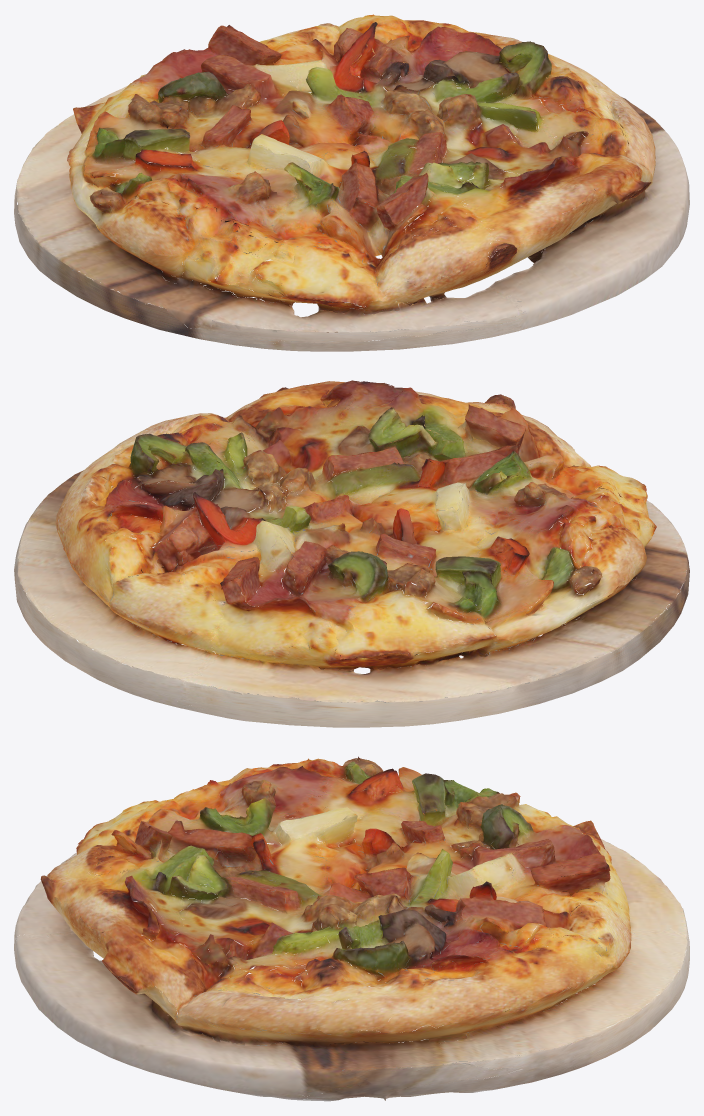
The model's file is pizza-del-giorno.glb.
The picture shows the model from 3 angles, top to bottom: view 1: azimuth 30°, elevation 25°; view 2: azimuth 150°, elevation 25°; view 3: azimuth 270°, elevation 25°; orthographic projection.
Visible parts, largest first — view 1: mainMeshNode_Material_0_0; view 2: mainMeshNode_Material_0_0; view 3: mainMeshNode_Material_0_0.
Boxes of the visible parts, <box> form: mainMeshNode_Material_0_0: <box>14,14,689,351</box>; mainMeshNode_Material_0_0: <box>14,380,689,727</box>; mainMeshNode_Material_0_0: <box>14,756,689,1101</box>.
Bounding box in the file's own units: 0.32 × 0.0645 × 0.3135.
1 material, 1 textured.
